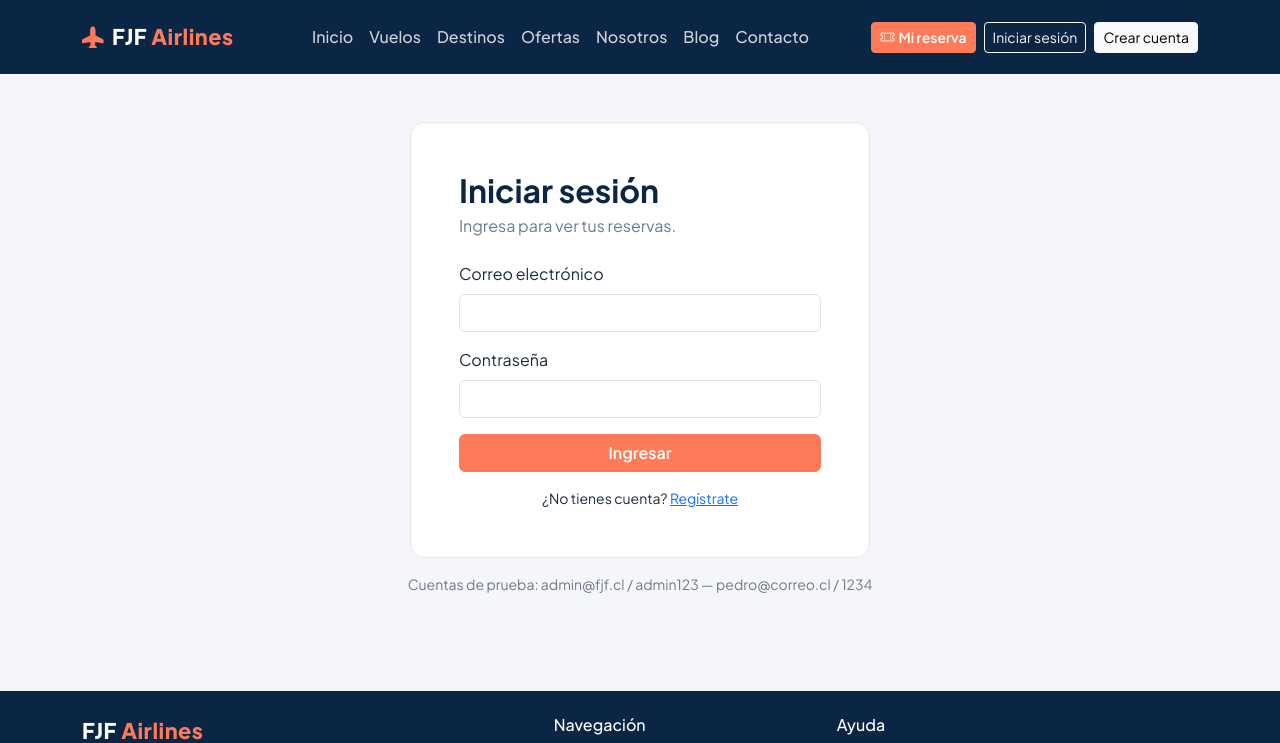
Scenario: Inicio de sesión › el administrador entra y llega al dashboard
Step 1. Type "admin@fjf.cl" into the field labelled "Correo electrónico" → [640, 313], box left=459, top=294, right=821, bottom=332
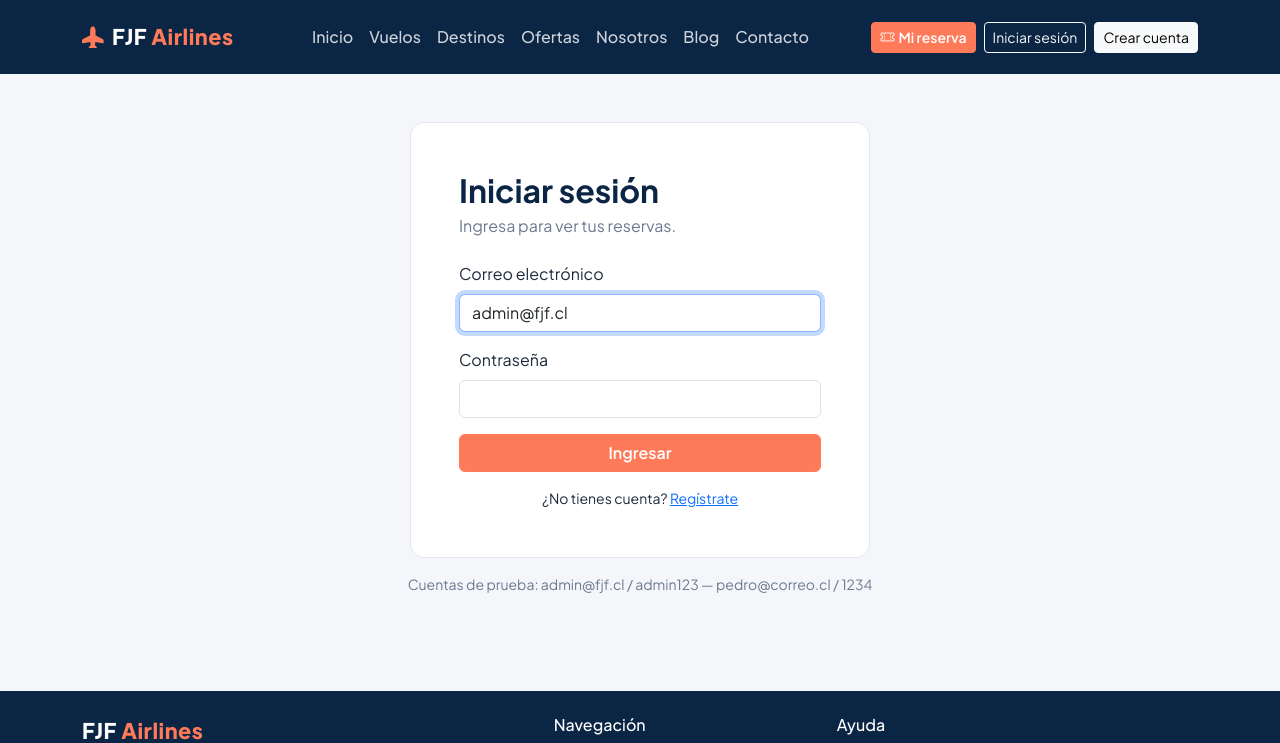
Step 2. Type "admin123" into the password field labelled "Contraseña" → [640, 399], box left=459, top=380, right=821, bottom=418
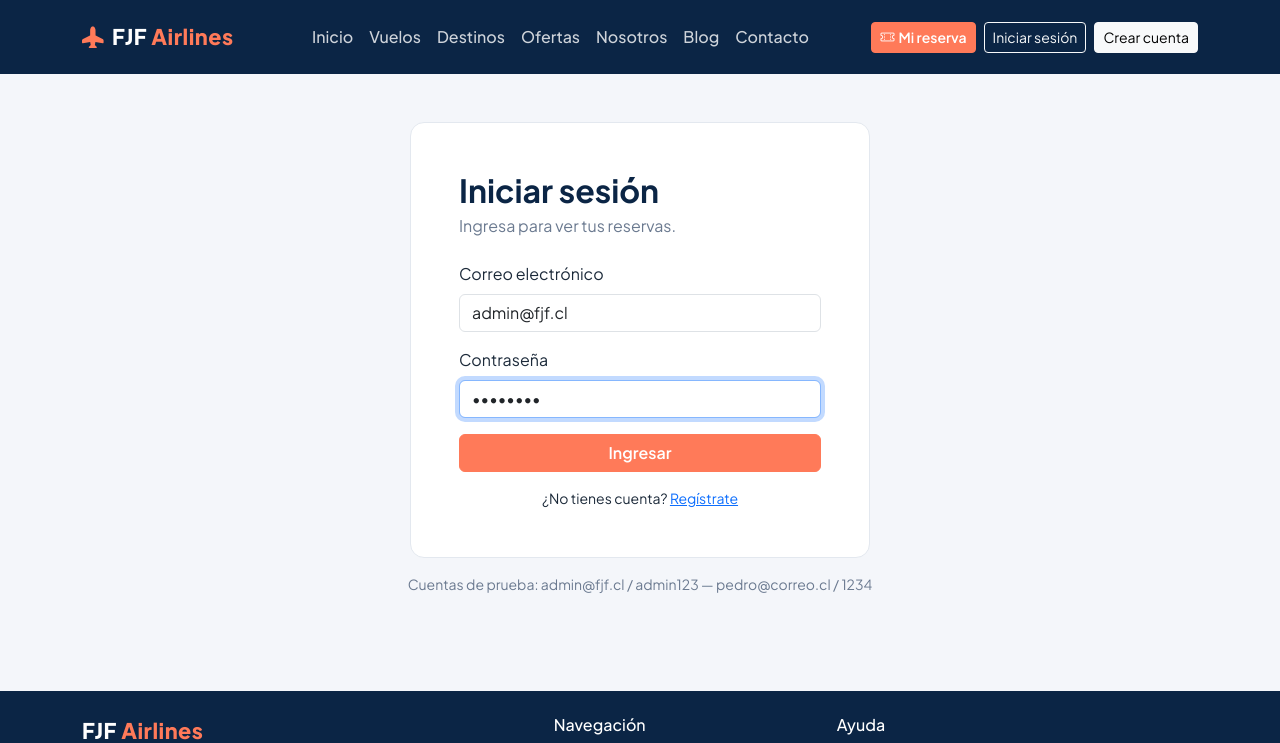
Step 3. Click the button "Ingresar" → [640, 453], box left=459, top=434, right=821, bottom=472
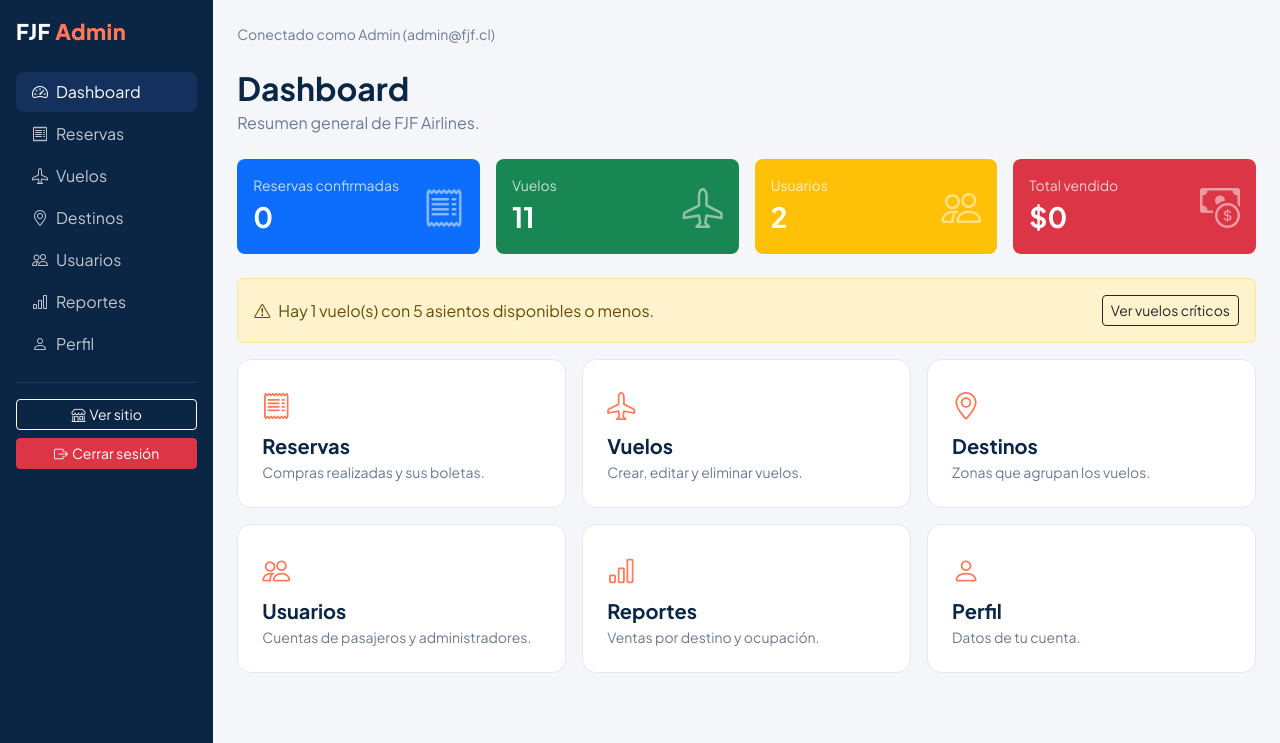
expect the text "Resumen general de FJF Airlines." is shown: met, box left=237, top=112, right=480, bottom=133
